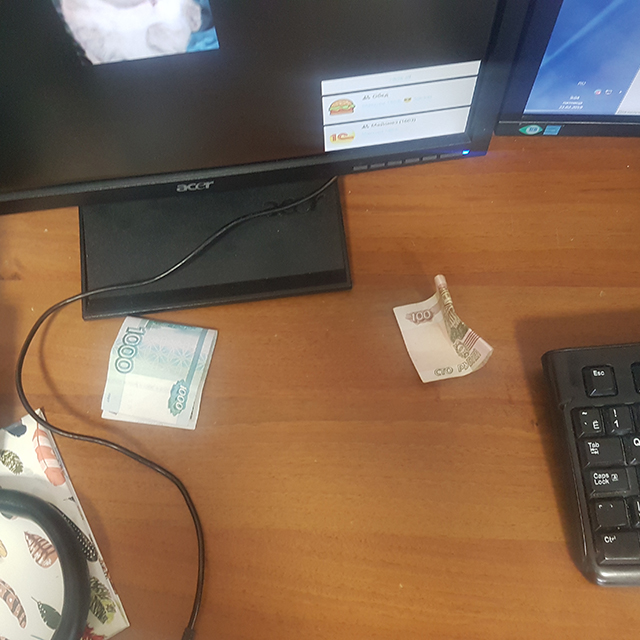banknotes: (99, 314, 219, 431), (391, 273, 495, 385)
